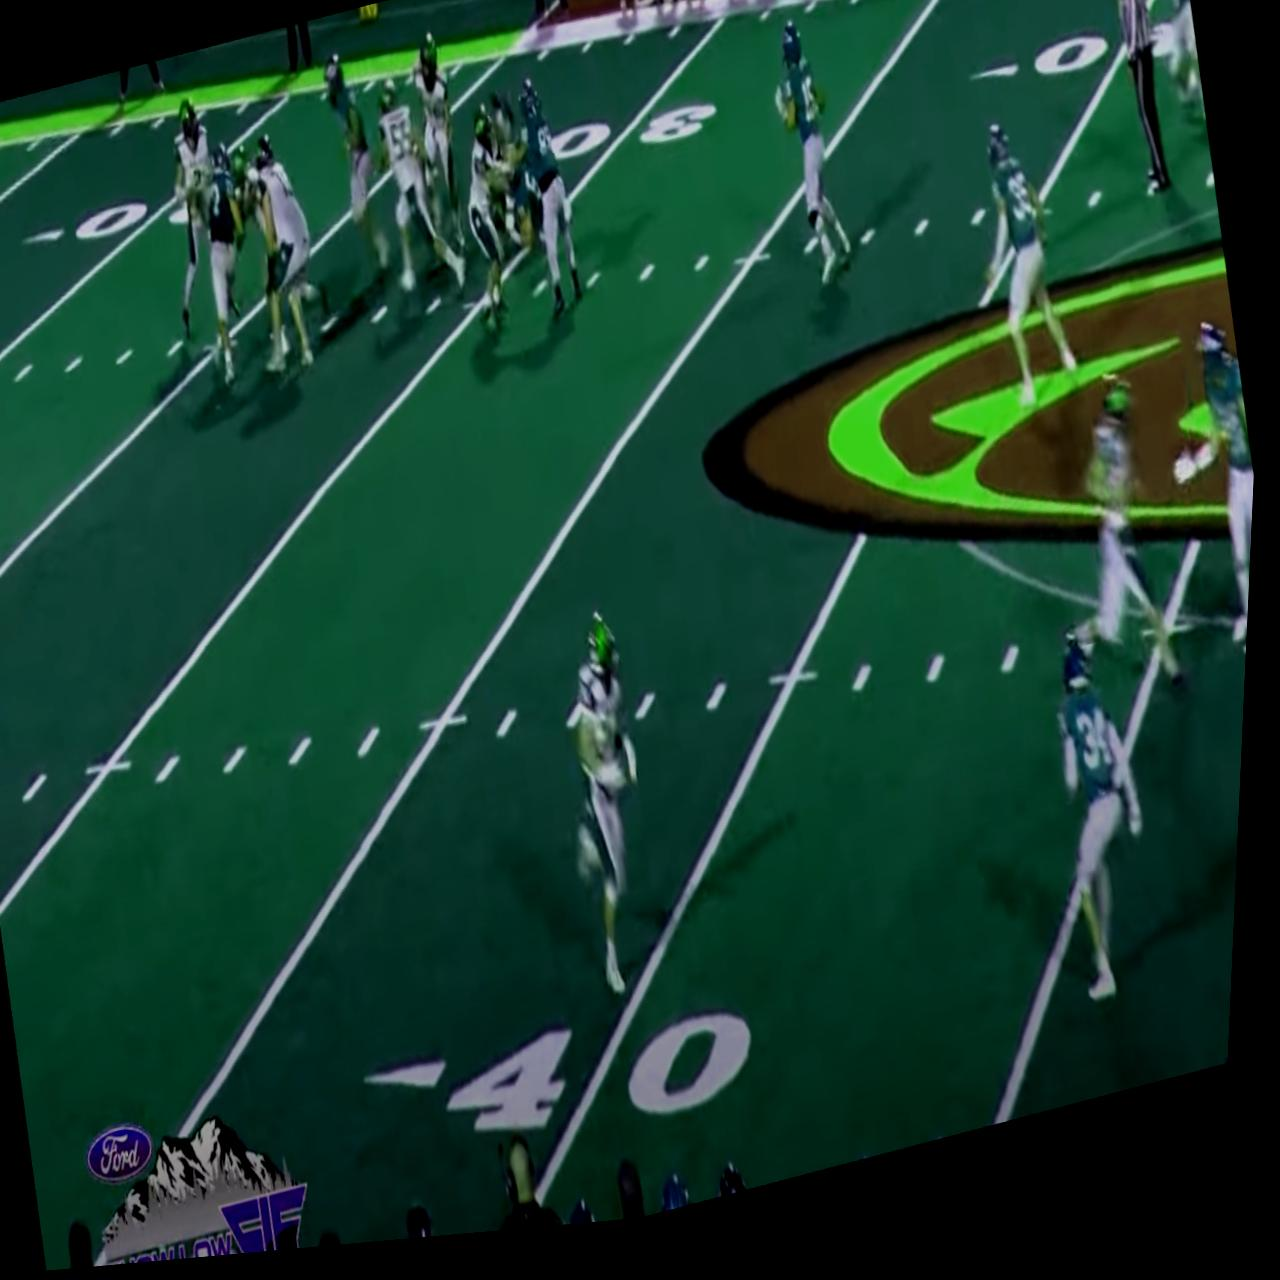10L: (21, 172, 253, 280)
30L: (502, 94, 724, 202)
40L: (367, 985, 777, 1207), (968, 26, 1200, 128)
